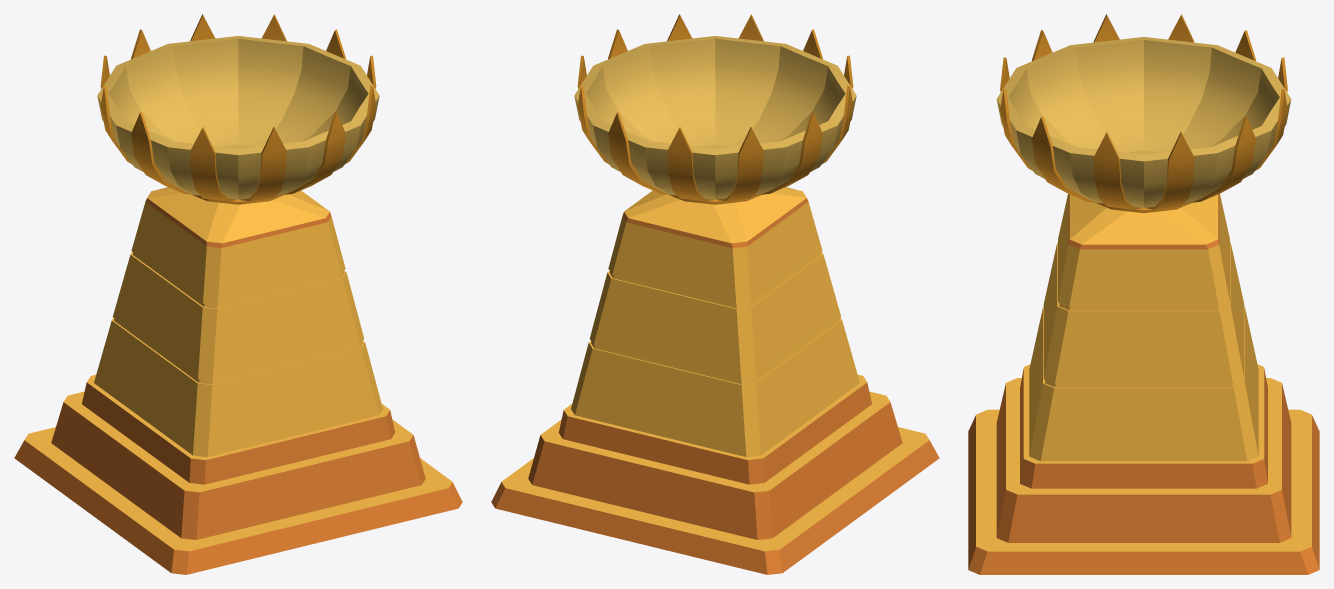
File: torch.fbx
The picture shows the model from 3 angles, left to right: view 1: azimuth 30°, elevation 25°; view 2: azimuth 150°, elevation 25°; view 3: azimuth 270°, elevation 25°; orthographic projection. The views are drawn at different scales.
Visible parts, largest first — view 1: Sphere; view 2: Sphere; view 3: Sphere.
Part boxes in pixels (box(x1,y1,x2,y2)): Sphere: box(14, 14, 462, 574); Sphere: box(491, 14, 939, 574); Sphere: box(968, 14, 1319, 574).
Size of the model in its own units: 89.8 by 121 by 89.8.
